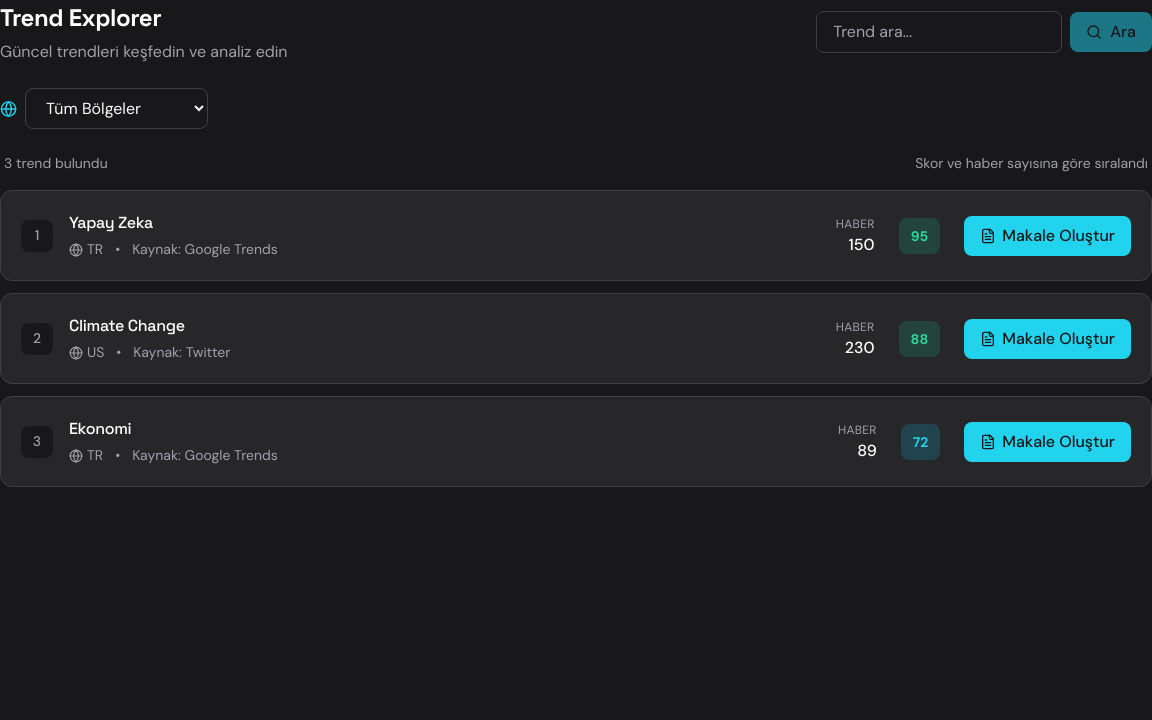
Test case: TrendExplorer › Interest over time chart › closes chart when close button is clicked
The image size is (1152, 720).
Expected: the heading "Yapay Zeka" is shown, x1=69 y1=212 x2=153 y2=233
# Click on first trend to open chart
Click the button "Yapay Zeka" at coordinates (37, 236), box x1=0 y1=190 x2=1151 y2=281
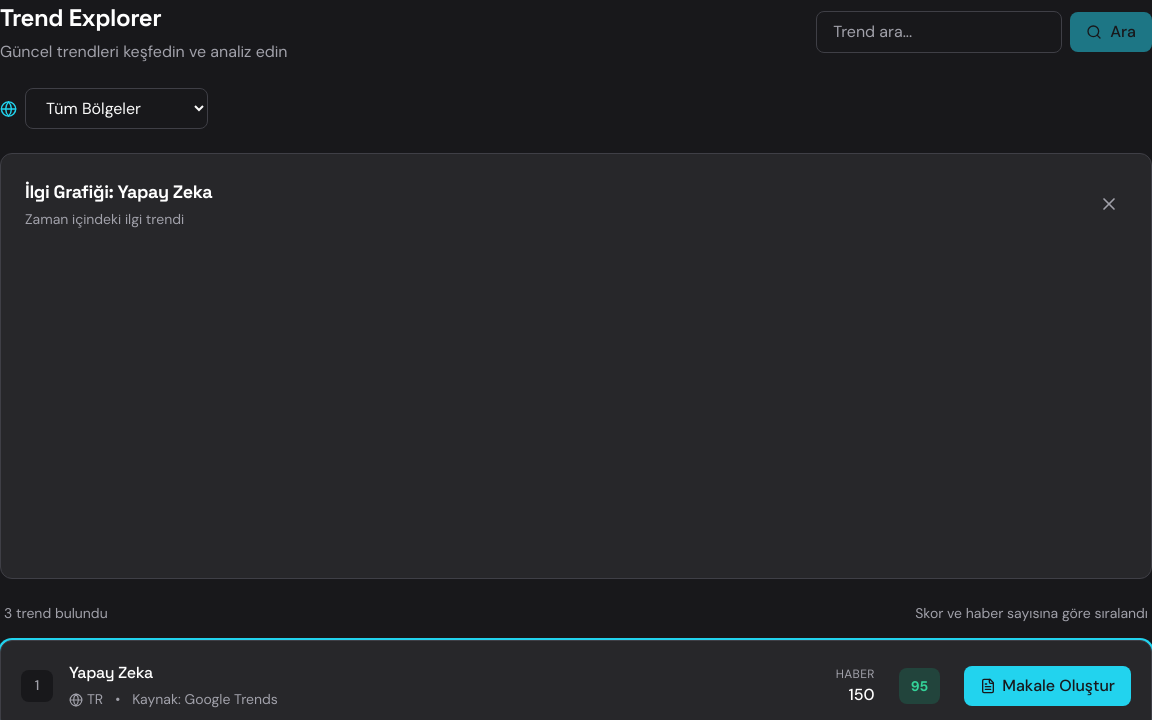
Result: the heading "İlgi Grafiği: Yapay Zeka" is shown at x1=25 y1=178 x2=212 y2=205
# Close the chart
Click the button named "Grafiği kapat" at coordinates (1109, 204), box x1=1091 y1=186 x2=1127 y2=222
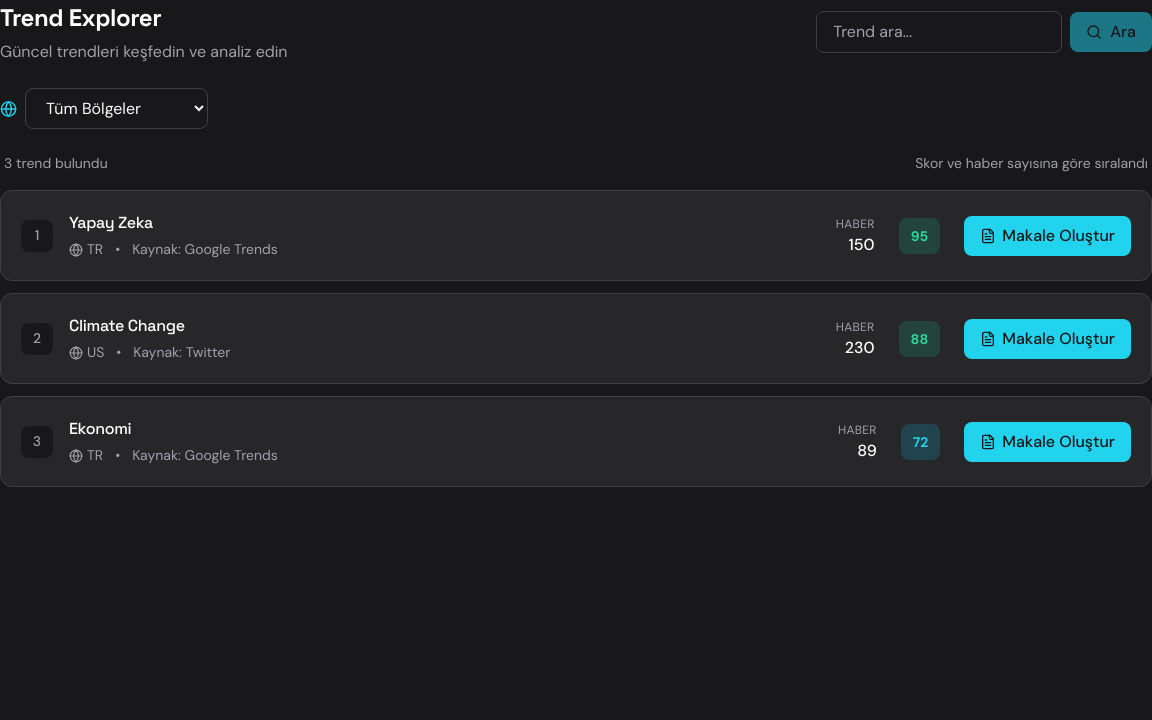
Result: the heading "İlgi Grafiği: Yapay Zeka" is gone
